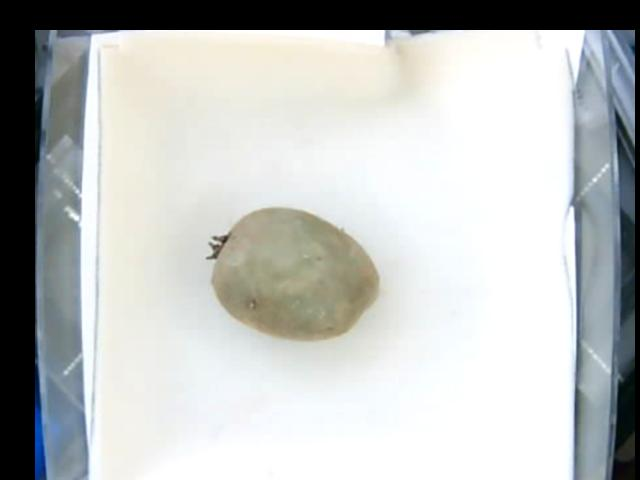Potato: (207, 203, 380, 345)
